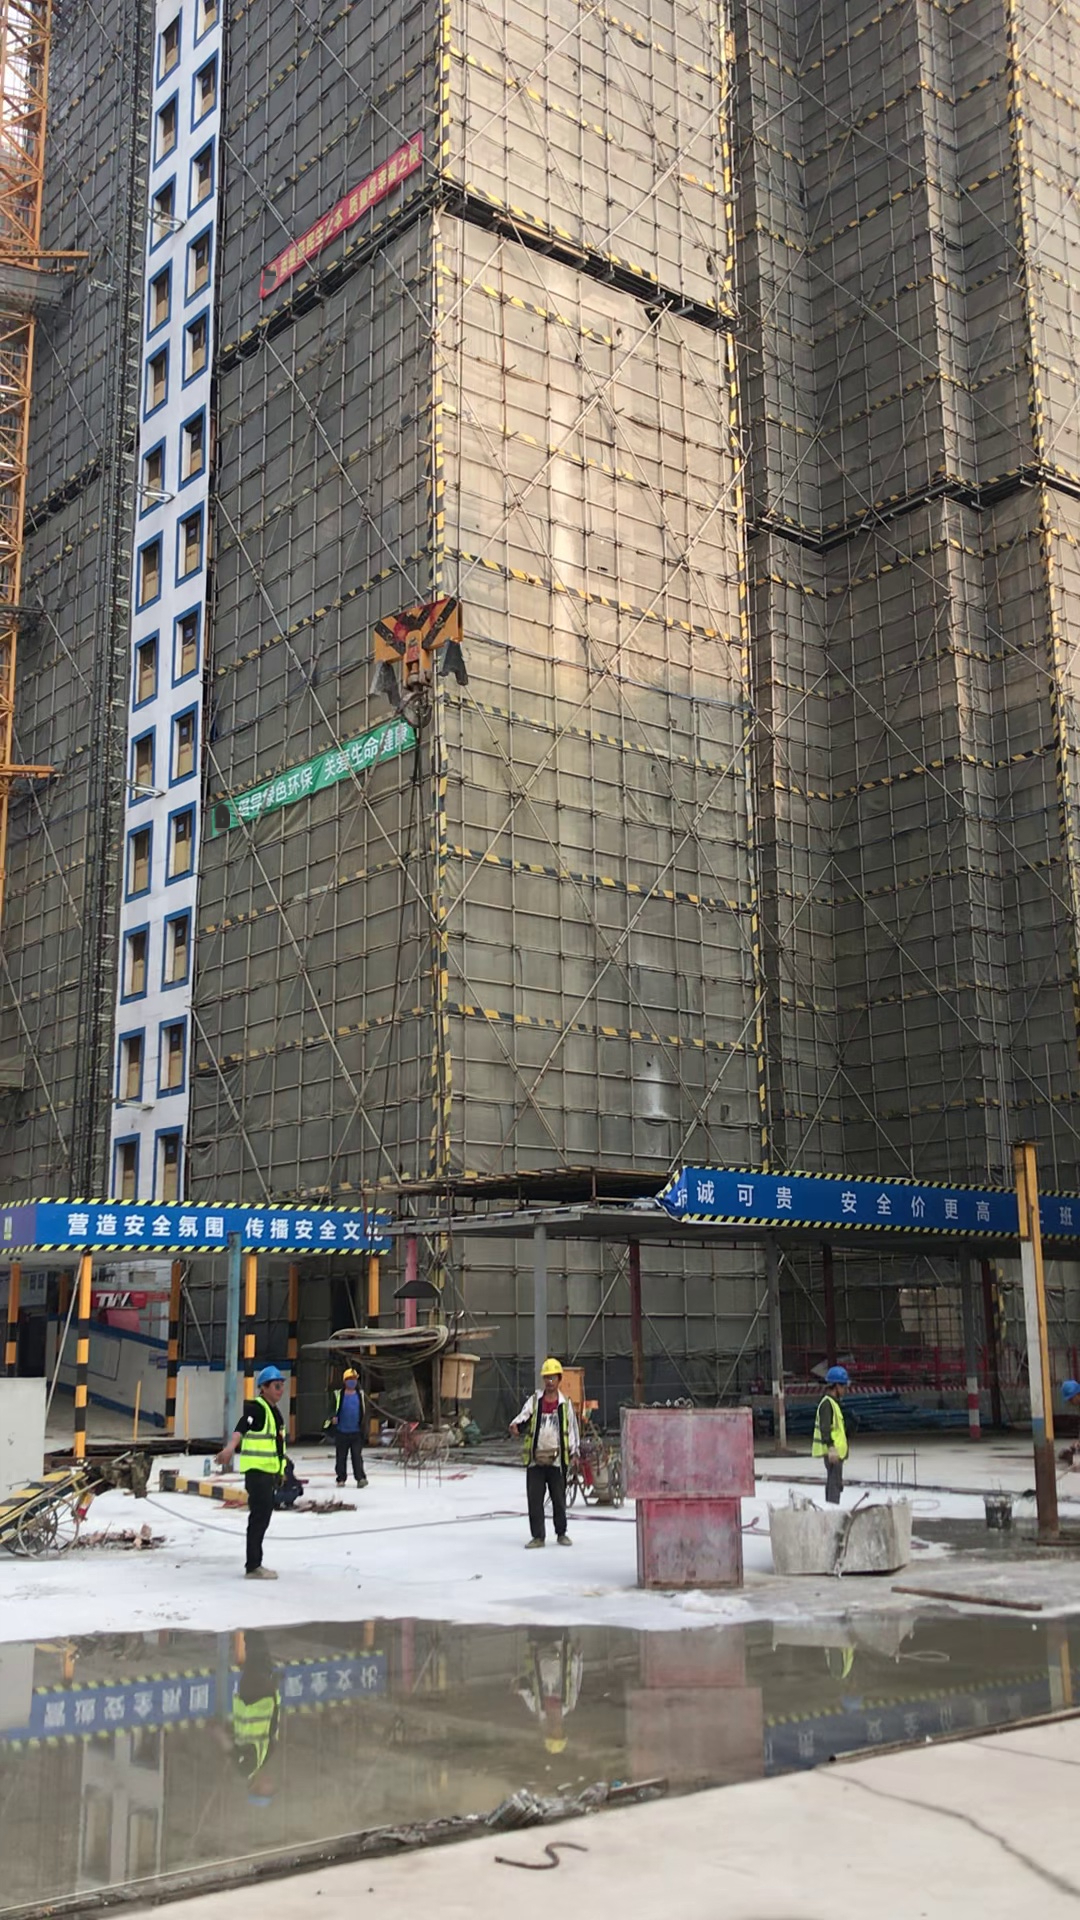ebox: (442, 1349, 486, 1401)
fence: (779, 1340, 1079, 1384)
handcart: (381, 1423, 458, 1476)
helmet: (823, 1365, 853, 1384), (256, 1367, 289, 1383), (537, 1358, 566, 1376), (1061, 1378, 1080, 1402), (343, 1367, 362, 1379)
hook: (361, 592, 476, 699)
hopper: (764, 1490, 913, 1579)
person: (220, 1362, 297, 1586), (511, 1357, 593, 1555), (806, 1360, 864, 1508), (323, 1363, 376, 1488)
slogan: (680, 1153, 1014, 1249), (266, 134, 437, 293), (206, 719, 424, 835), (41, 1203, 391, 1249)
vest: (235, 1399, 285, 1473), (525, 1394, 575, 1467), (811, 1401, 850, 1462)
